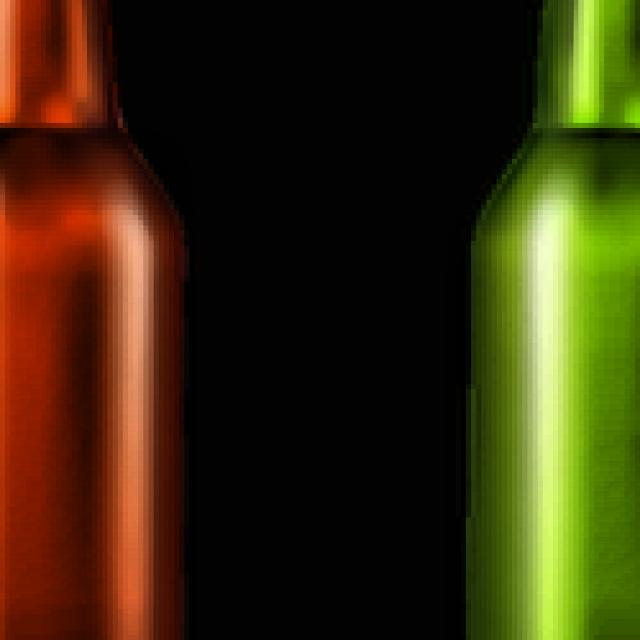glass: (460, 0, 640, 640)
